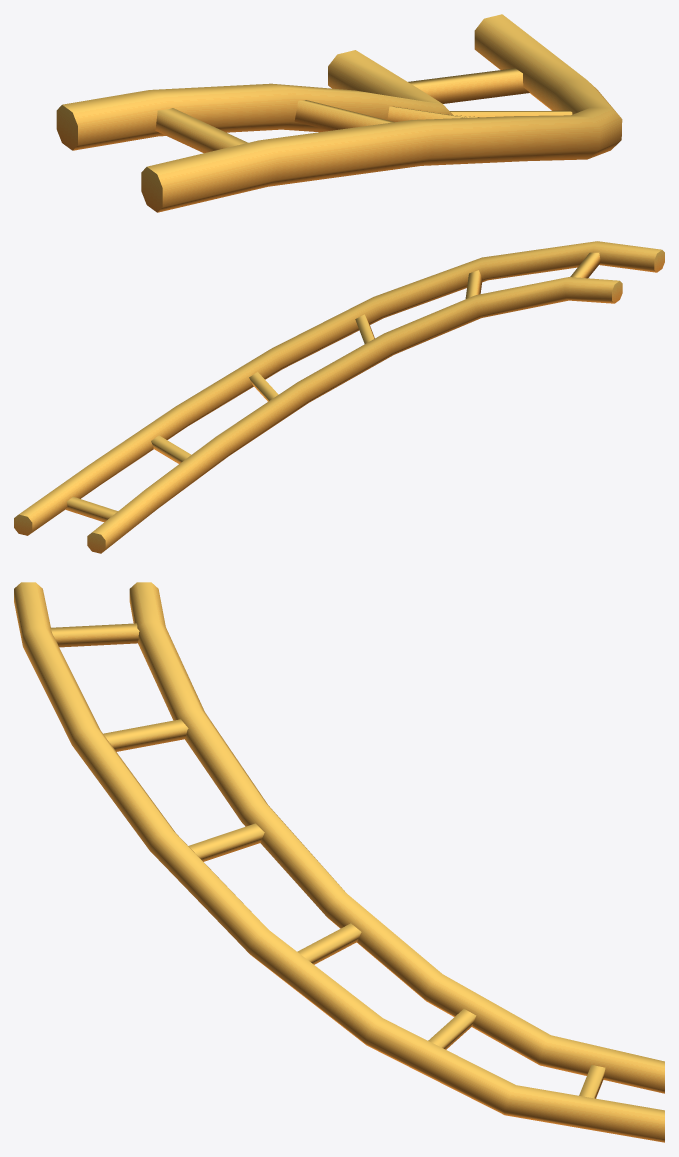
The model's file is mouse-corner-small-ramp.glb.
3 views of the same model, one above another, from view 1: azimuth 30°, elevation 25°; view 2: azimuth 150°, elevation 25°; view 3: azimuth 270°, elevation 25° (orthographic). The views are drawn at different scales.
Parts seen in each view (by area): view 1: coaster-mouse-corner-small-ramp; view 2: coaster-mouse-corner-small-ramp; view 3: coaster-mouse-corner-small-ramp.
Part boxes in pixels (box(x1,y1,x2,y2)): coaster-mouse-corner-small-ramp: box(56, 14, 622, 212); coaster-mouse-corner-small-ramp: box(14, 241, 664, 553); coaster-mouse-corner-small-ramp: box(14, 582, 664, 1142).
Bounding box in the file's own units: 2.25 × 1.1 × 2.25.
Materials: 1 (1 with a texture image).
